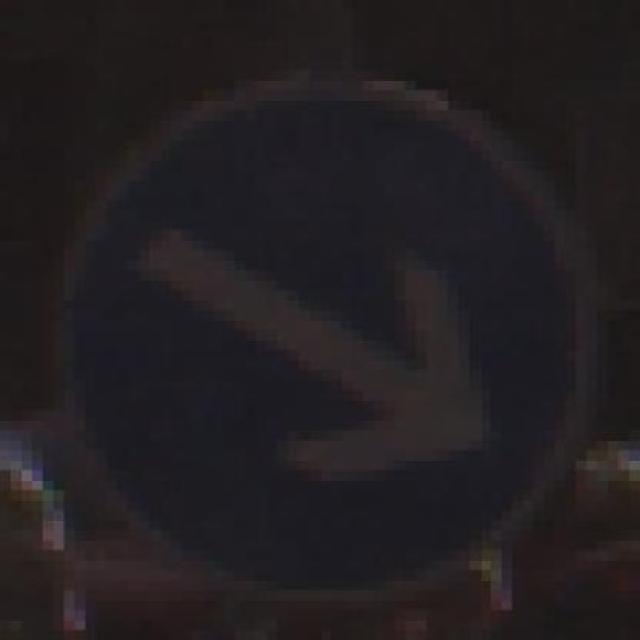Keep-Right: (42, 60, 608, 611)
